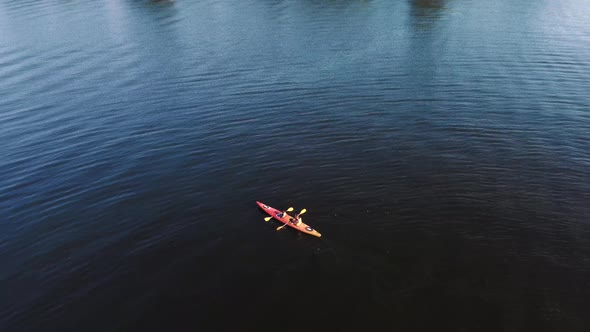kayaker: (253, 199, 323, 240)
